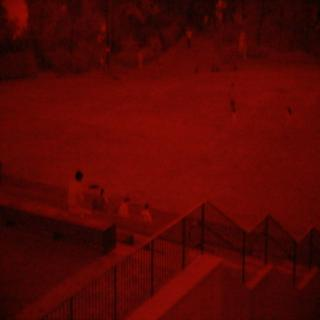person: (67, 160, 95, 230), (138, 195, 156, 231), (118, 191, 136, 221)
